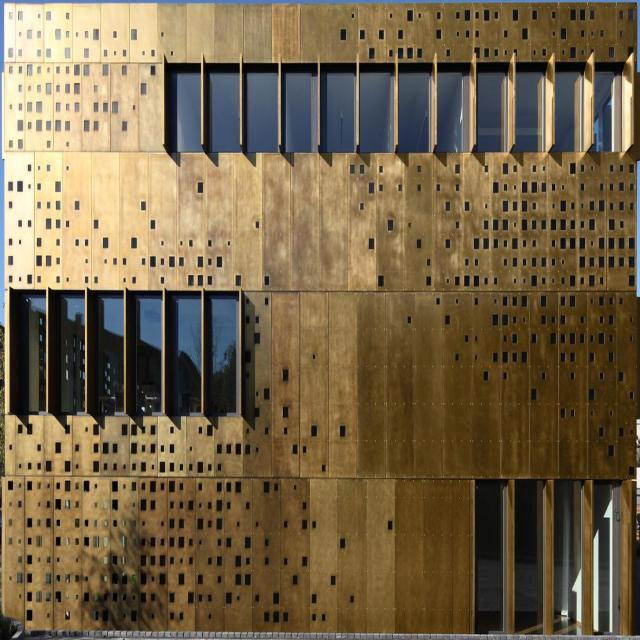window: (170, 67, 625, 150), (12, 295, 239, 417), (475, 480, 621, 639)
